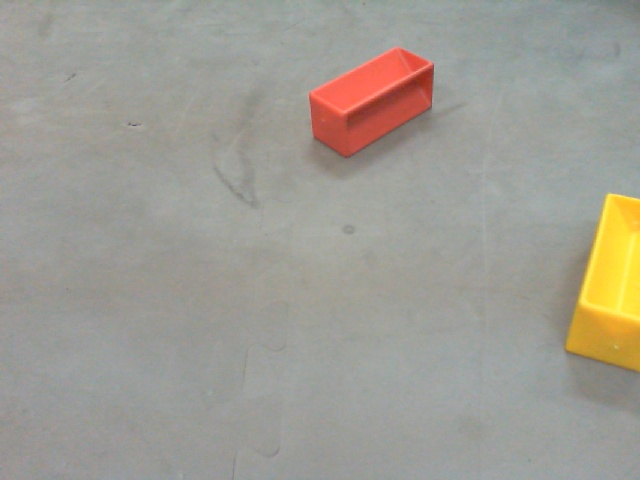RedSample: (309, 48, 434, 153)
YellowSample: (563, 192, 640, 370)
